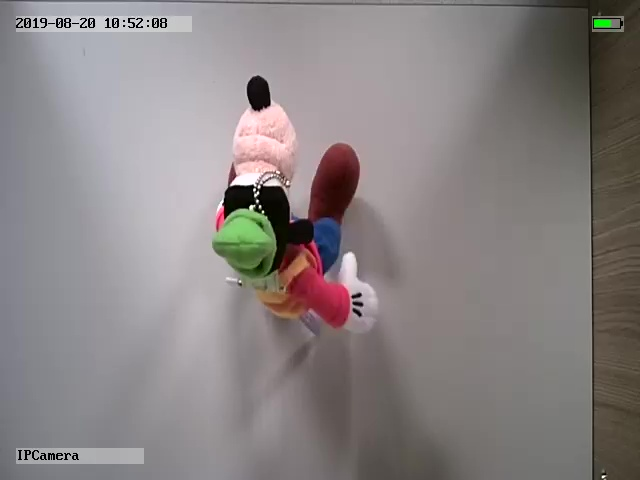goofy: (211, 75, 381, 335)
